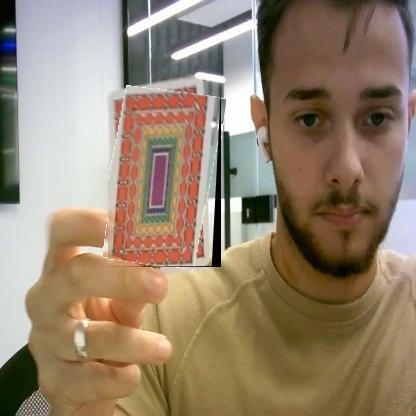BACK: (108, 88, 221, 267)
